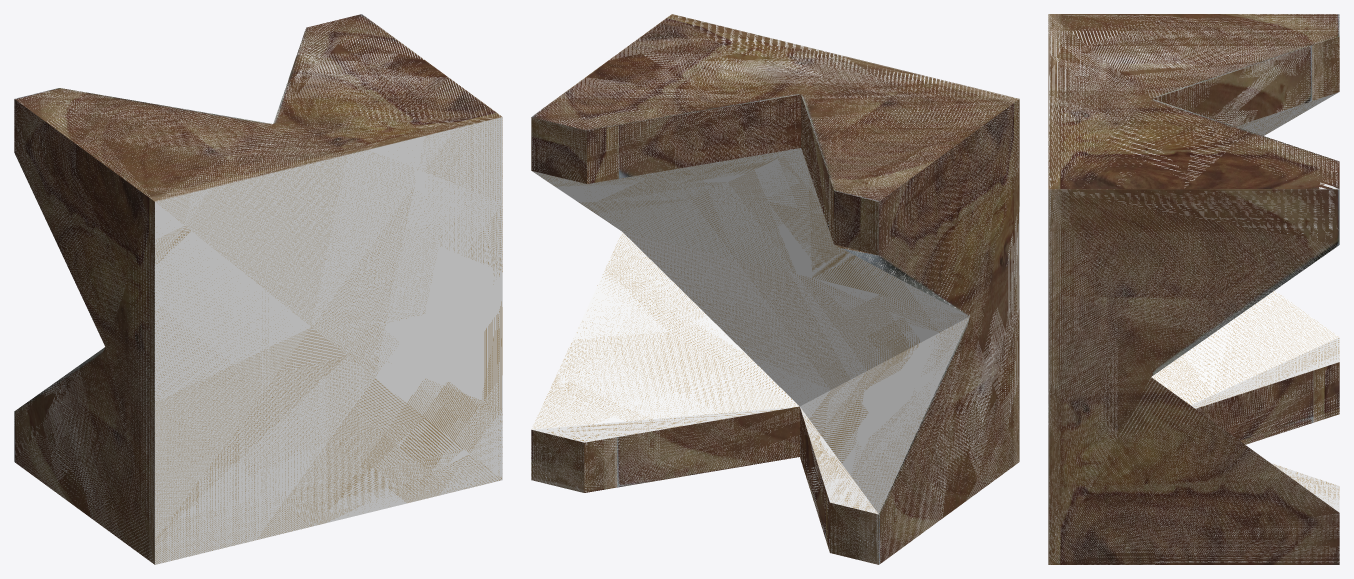
Rendered from table_bedside1d71d70d9.obj.
The picture shows the model from 3 angles, left to right: view 1: azimuth 30°, elevation 25°; view 2: azimuth 150°, elevation 25°; view 3: azimuth 270°, elevation 25°; orthographic projection. The views are drawn at different scales.
Parts seen in each view (by area): view 1: table_bedside1d71d70d9; view 2: table_bedside1d71d70d9; view 3: table_bedside1d71d70d9.
Part boxes in pixels (x1,y1,x2,y2): table_bedside1d71d70d9: (14,14,502,564); table_bedside1d71d70d9: (531,14,1019,564); table_bedside1d71d70d9: (1048,14,1339,564).
Bounding box in the file's own units: 0.5784 × 0.5772 × 0.4055.
Materials: 3 (2 with a texture image).
